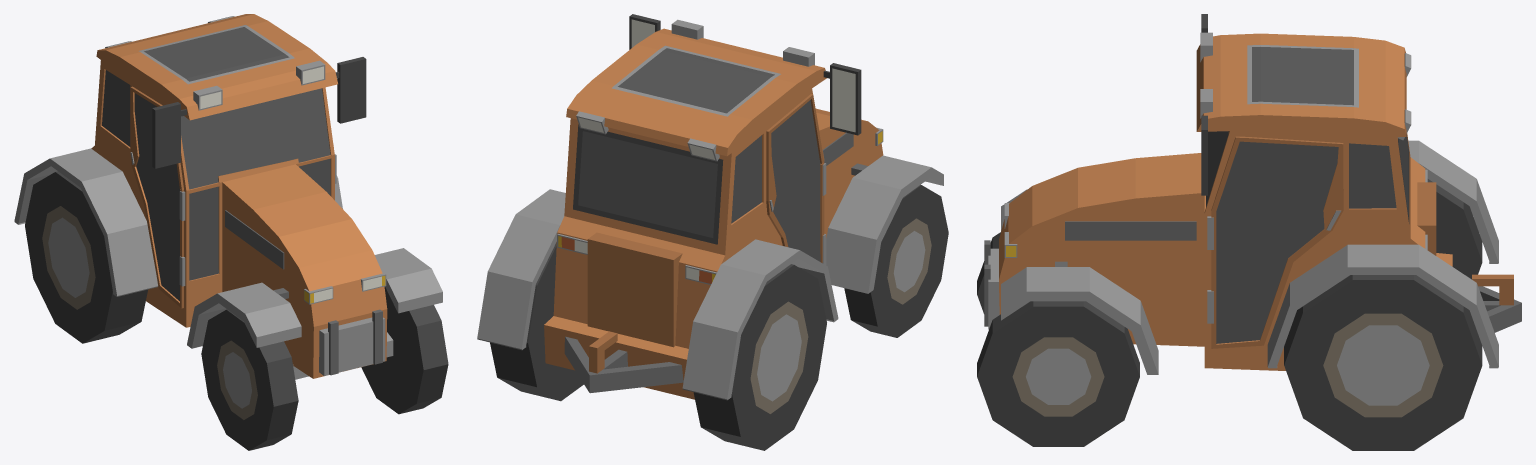
The model's file is kar_1.fbx.
3 renders of one model, left to right at view 1: azimuth 30°, elevation 25°; view 2: azimuth 150°, elevation 25°; view 3: azimuth 270°, elevation 25°, orthographic. The views are drawn at different scales.
Visible parts, largest first — view 1: Boole_2, Cylinder_5, Cylinder_2, Cylinder; view 2: Boole_2, Cylinder_5, Cylinder_2, Cylinder_1; view 3: Boole_2, Cylinder_1, Cylinder, Cylinder_5.
Part boxes in pixels (x1=…): Boole_2: x1=14, y1=14, x2=442, y2=379; Cylinder_5: x1=25, y1=171, x2=148, y2=343; Cylinder_2: x1=201, y1=309, x2=298, y2=450; Cylinder: x1=361, y1=287, x2=448, y2=414; Boole_2: x1=477, y1=14, x2=943, y2=400; Cylinder_5: x1=693, y1=264, x2=826, y2=450; Cylinder_2: x1=844, y1=185, x2=948, y2=337; Cylinder_1: x1=490, y1=242, x2=583, y2=401; Boole_2: x1=984, y1=14, x2=1521, y2=374; Cylinder_1: x1=1284, y1=275, x2=1482, y2=450; Cylinder: x1=977, y1=301, x2=1139, y2=446; Cylinder_5: x1=1427, y1=179, x2=1482, y2=279.
Bounding box in the file's own units: 213 × 260 × 387.
